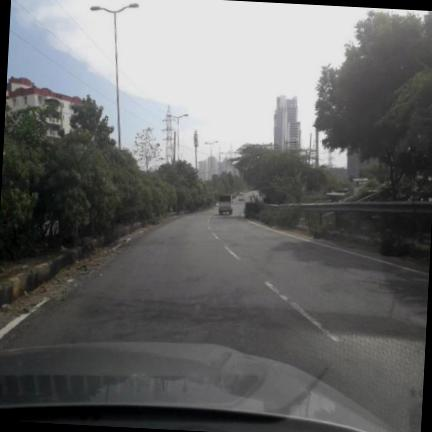Road: (0, 202, 428, 431)
